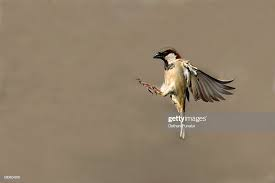hsparrow: (135, 42, 240, 154)
